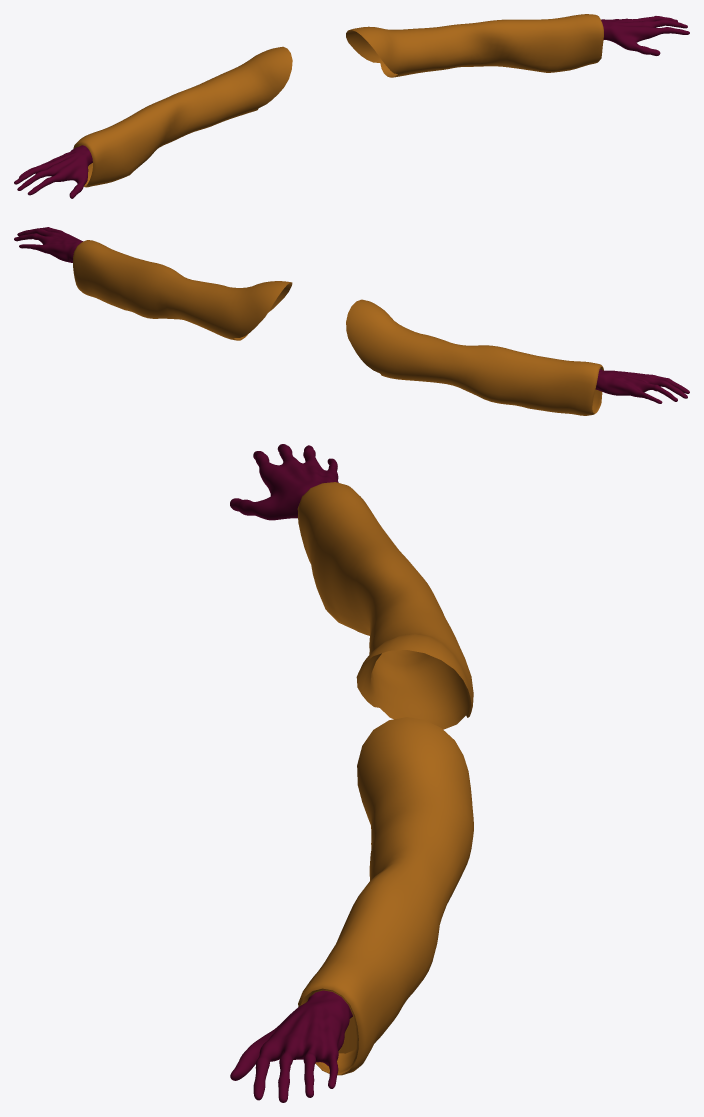
The model's file is Teacher's_arms.fbx.
3 views of the same model, one above another, from view 1: azimuth 30°, elevation 25°; view 2: azimuth 150°, elevation 25°; view 3: azimuth 270°, elevation 25° (orthographic). The views are drawn at different scales.
Parts seen in each view (by area): view 1: Bras_LD; view 2: Bras_LD; view 3: Bras_LD.
Boxes of the visible parts, box(x1,y1,x2,y2) form: Bras_LD: box(14, 14, 689, 198); Bras_LD: box(14, 227, 689, 415); Bras_LD: box(230, 444, 473, 1102).
Bounding box in the file's own units: 2.4 × 0.2555 × 0.3795.
